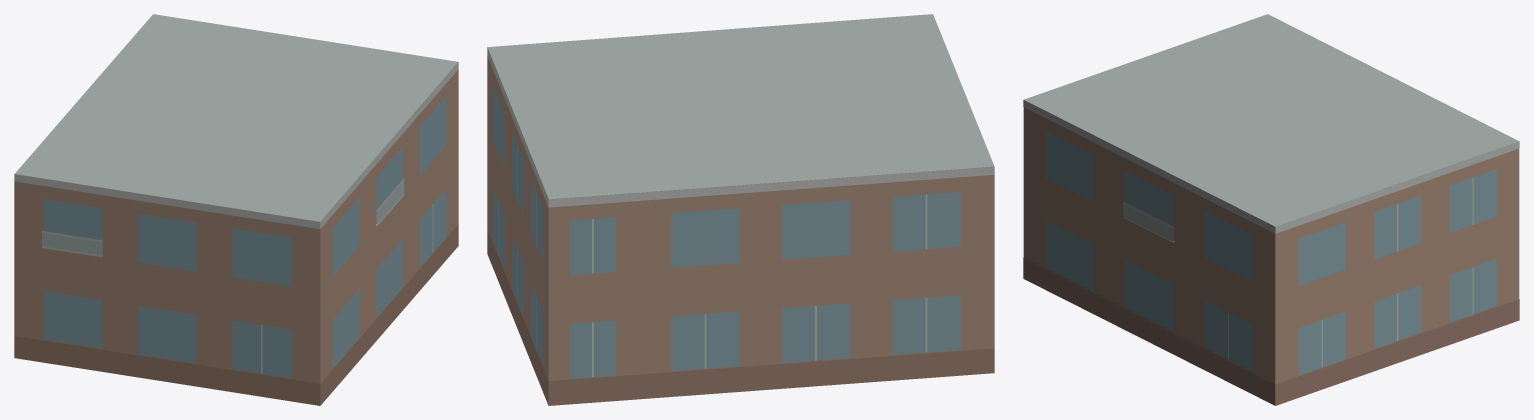
Rendered from survey-upis-32781709.glb.
3 renders of one model, left to right at view 1: azimuth 30°, elevation 25°; view 2: azimuth 150°, elevation 25°; view 3: azimuth 270°, elevation 25°, orthographic. The views are drawn at different scales.
Visible parts, largest first — view 1: survey-upis-32781709.tmp; view 2: survey-upis-32781709.tmp; view 3: survey-upis-32781709.tmp.
Boxes of the visible parts, box(x1,y1,x2,y2) form: survey-upis-32781709.tmp: box(14, 14, 458, 405); survey-upis-32781709.tmp: box(487, 14, 994, 405); survey-upis-32781709.tmp: box(1023, 14, 1519, 405).
Bounding box in the file's own units: 15.55 × 6.1 × 15.32.
